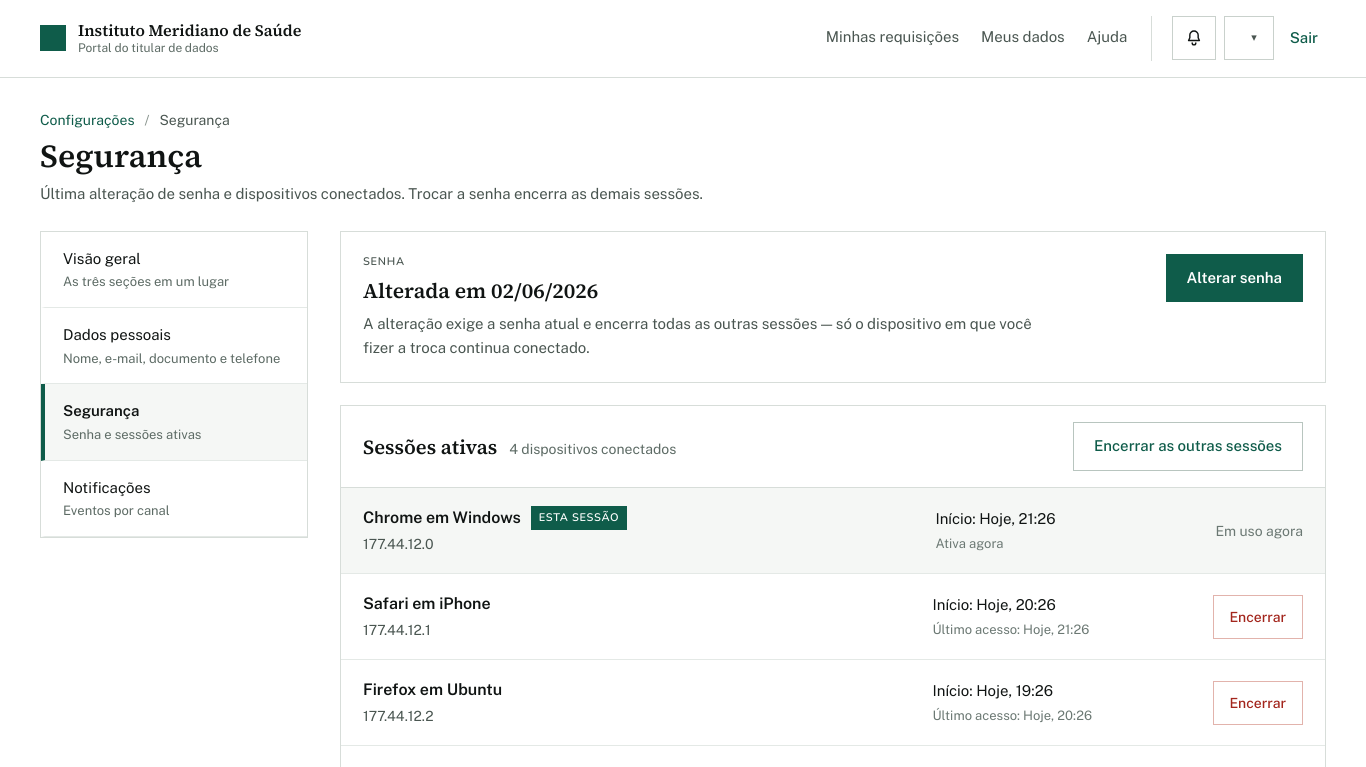
Scenario: SecuritySettingsView › troca a senha e encerra as outras sessões
Click the button "Alterar senha": [1234, 278] box [1166,254,1303,302]
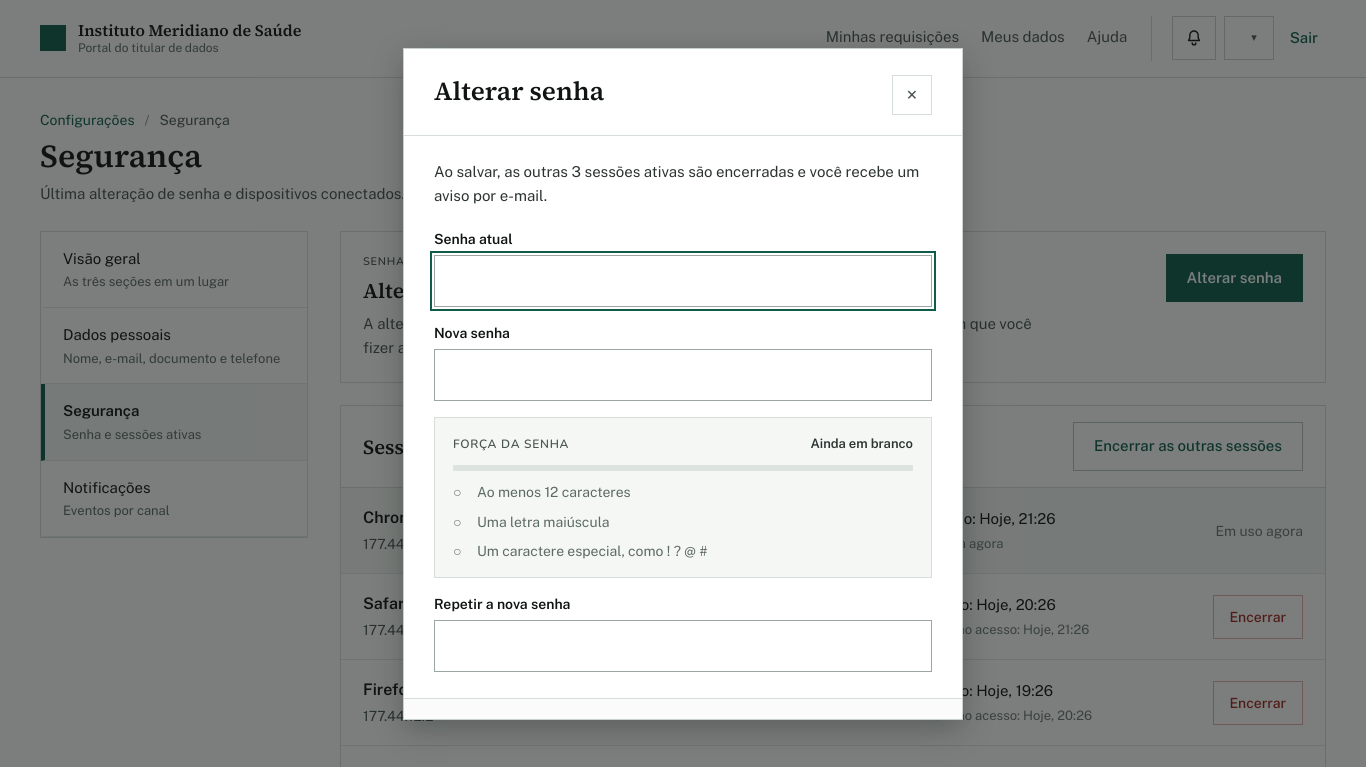
In the password field labelled "Senha atual": [683, 281] box [434,255,932,307], type "SenhaSegura!123"
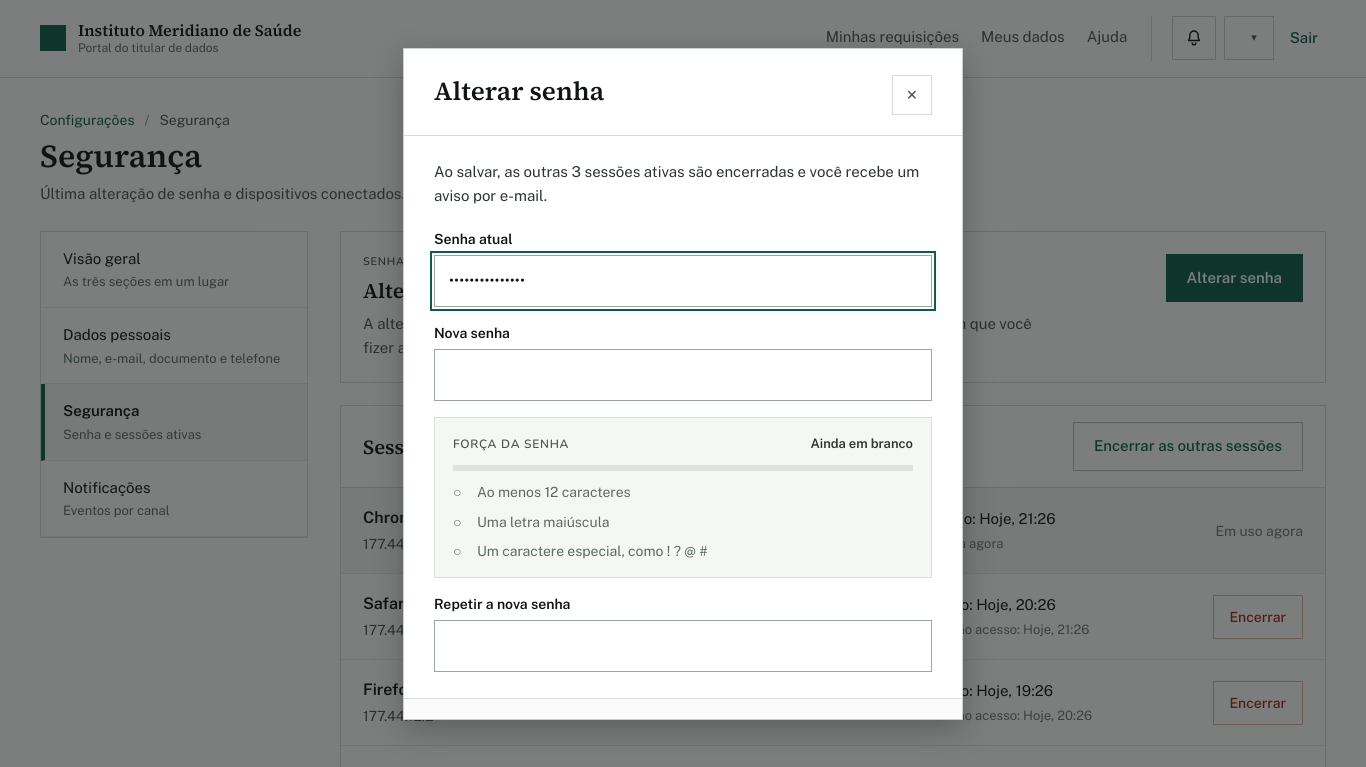
In the password field labelled "Nova senha": [683, 375] box [434,349,932,401], type "OutraSenhaForte#2026"
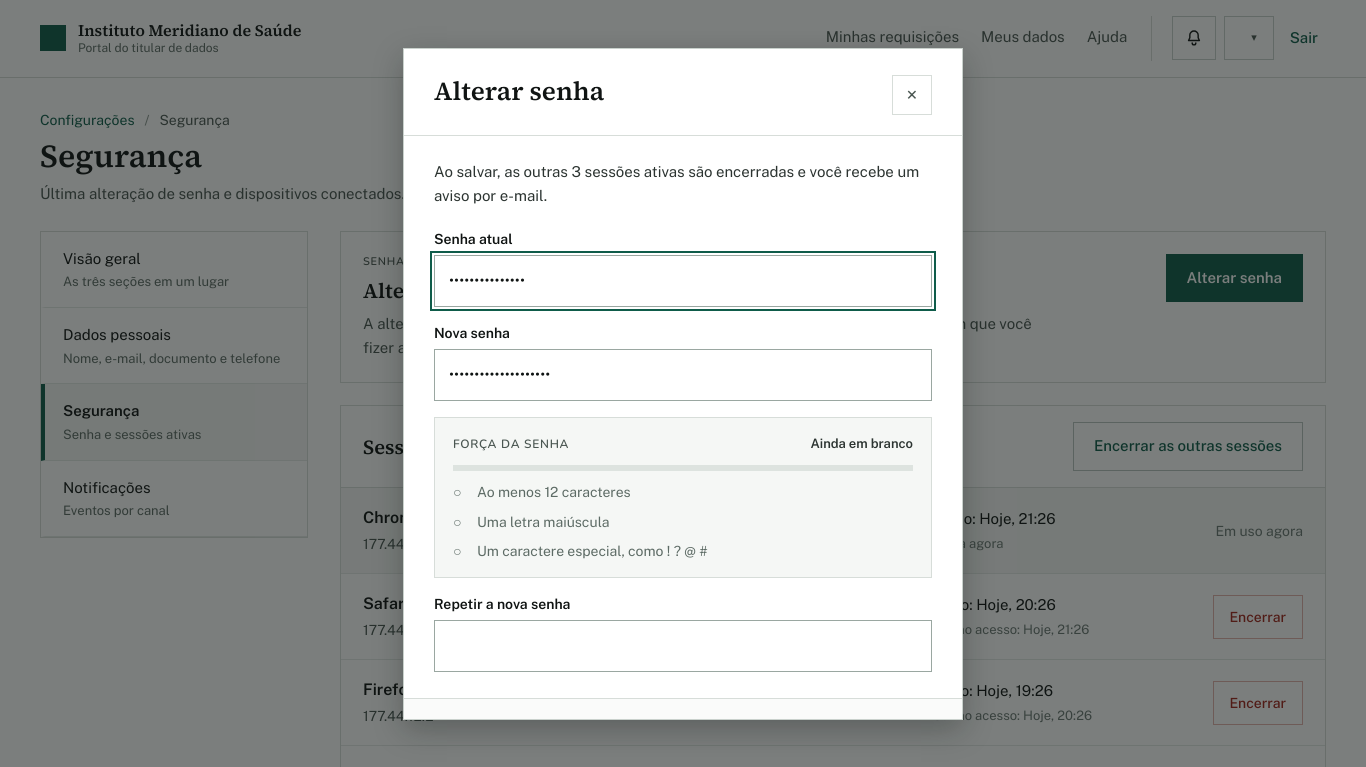
In the password field labelled "Repetir a nova senha": [683, 646] box [434,620,932,672], type "OutraSenhaForte#2026"
(page scrolled)
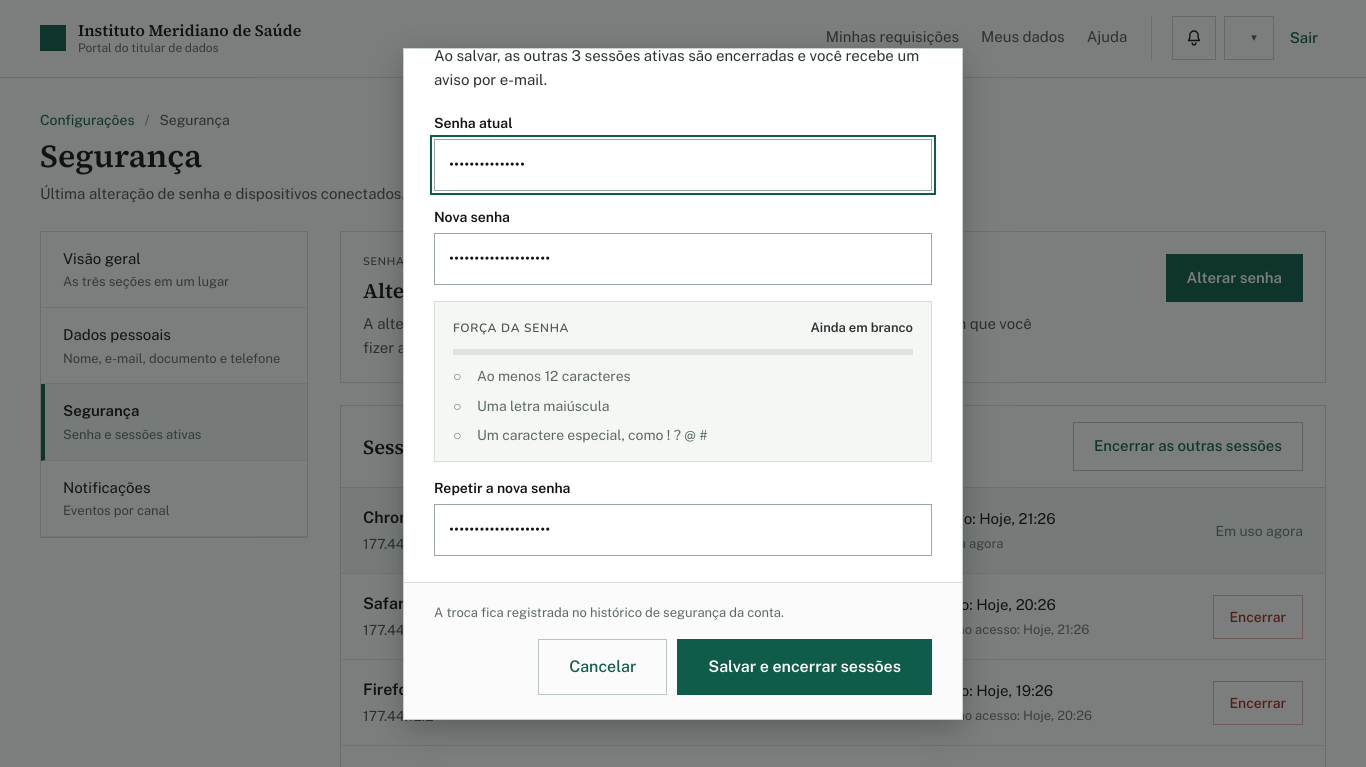
Click the button "Salvar e encerrar sessões": [805, 666] box [677,638,932,694]
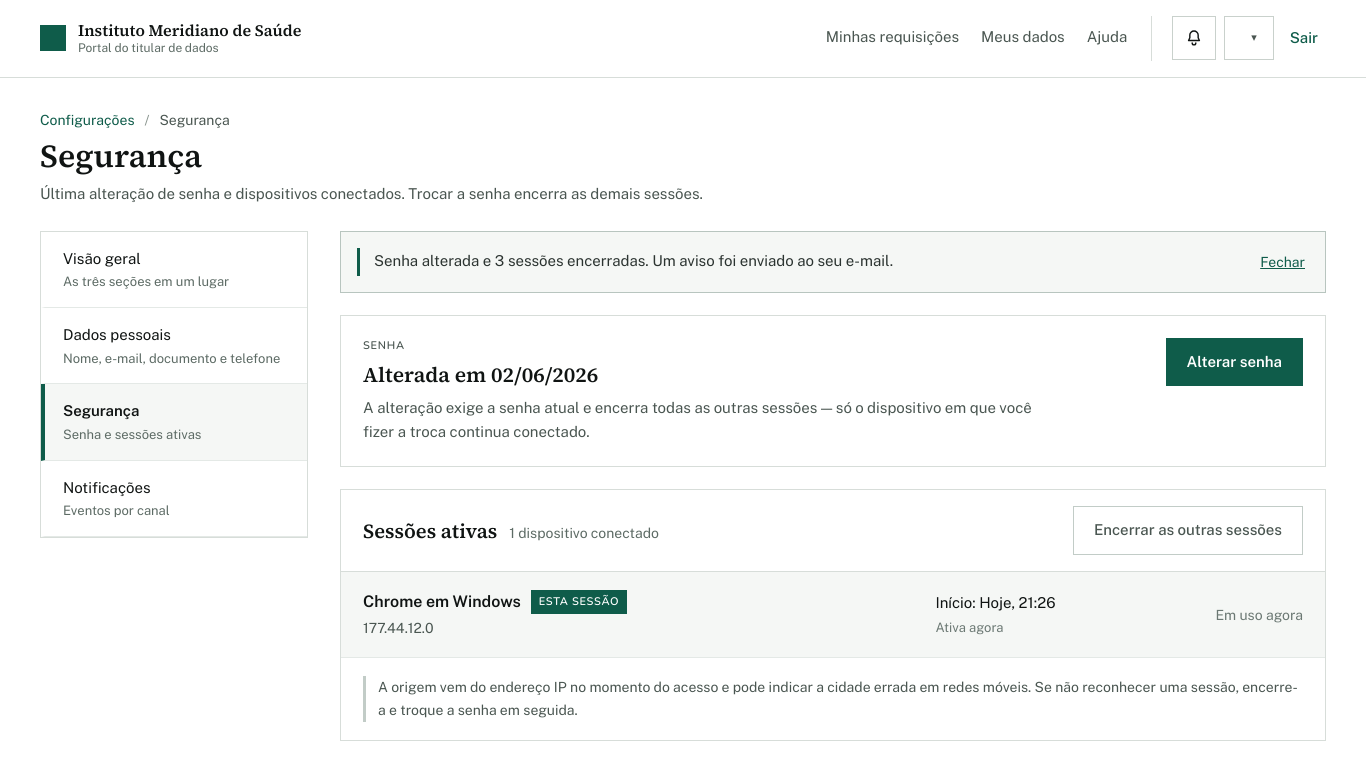
expect the text "Senha alterada e 3 sessões encerradas." is shown: met, box [374,252,893,269]
expect the text "1 dispositivo conectado" is shown: met, box [509,523,659,543]
